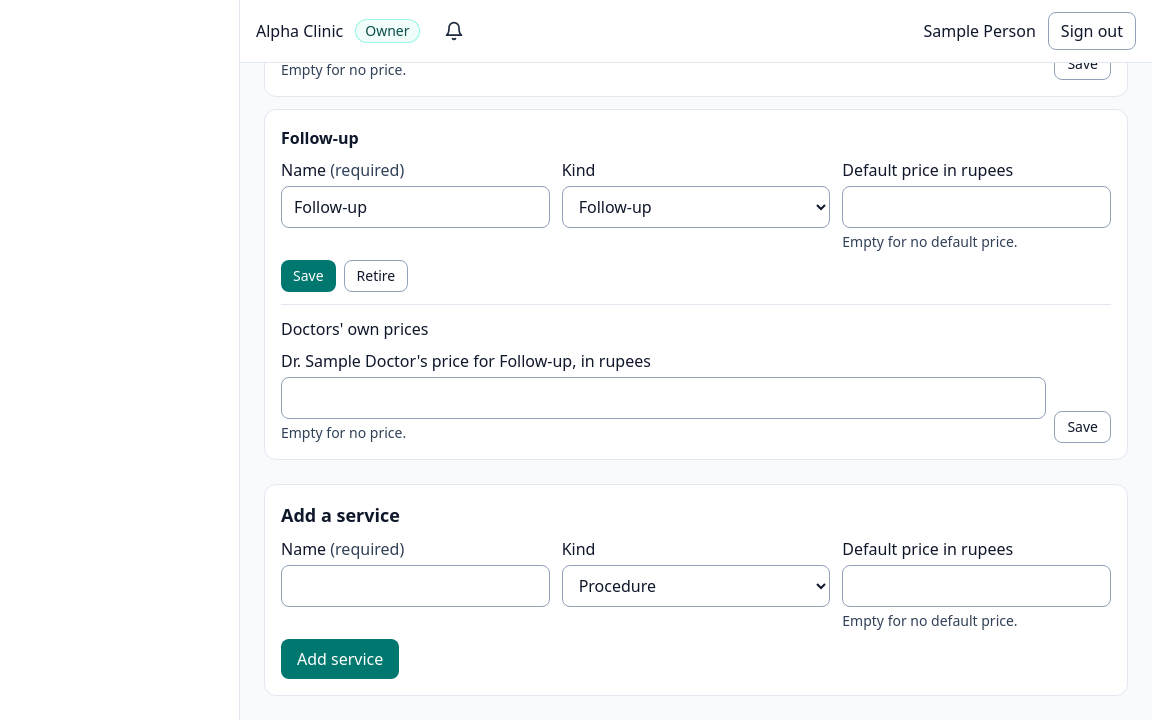
Test case: the fee schedule (M6d-P1, FR-BIL-01, billing R1-R4) › adds a service, and shows the API's refusal of a taken name
(page scrolled)
Step 1. Type "Dressing" into the field labelled "Name (required)" below "Add a service" → (415, 586), box [281,565,550,607]
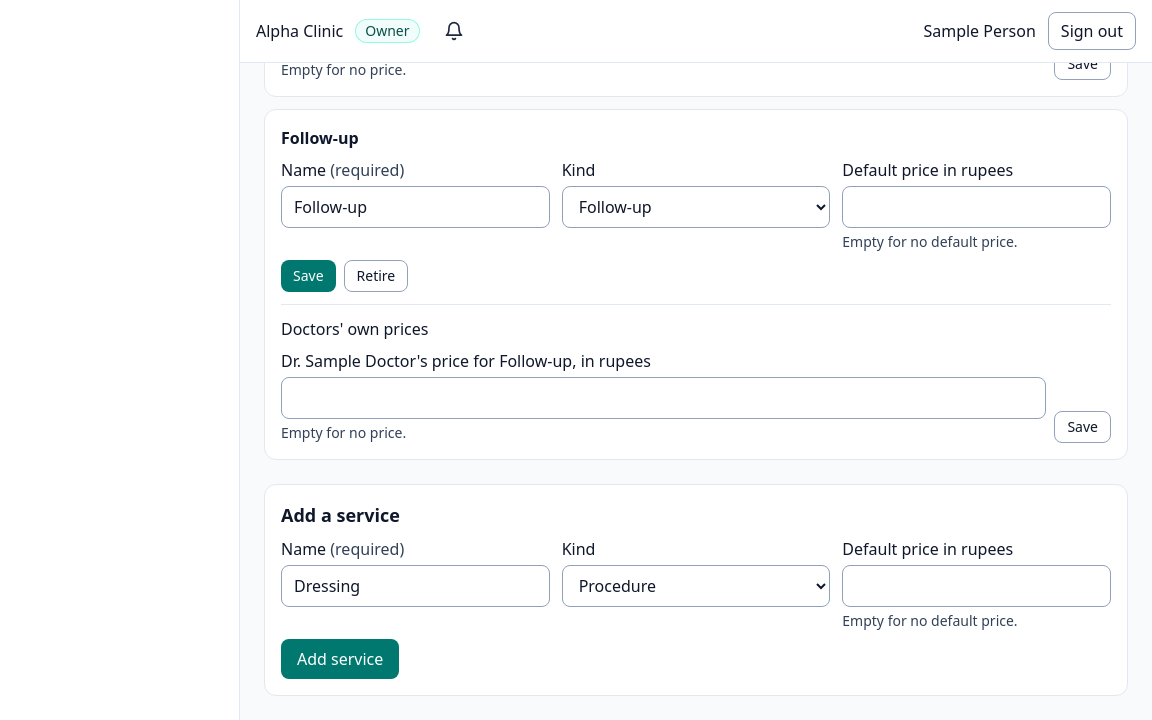
Step 2. Type "200" into the 2nd field labelled "Default price in rupees" → (977, 586), box [842,565,1111,607]
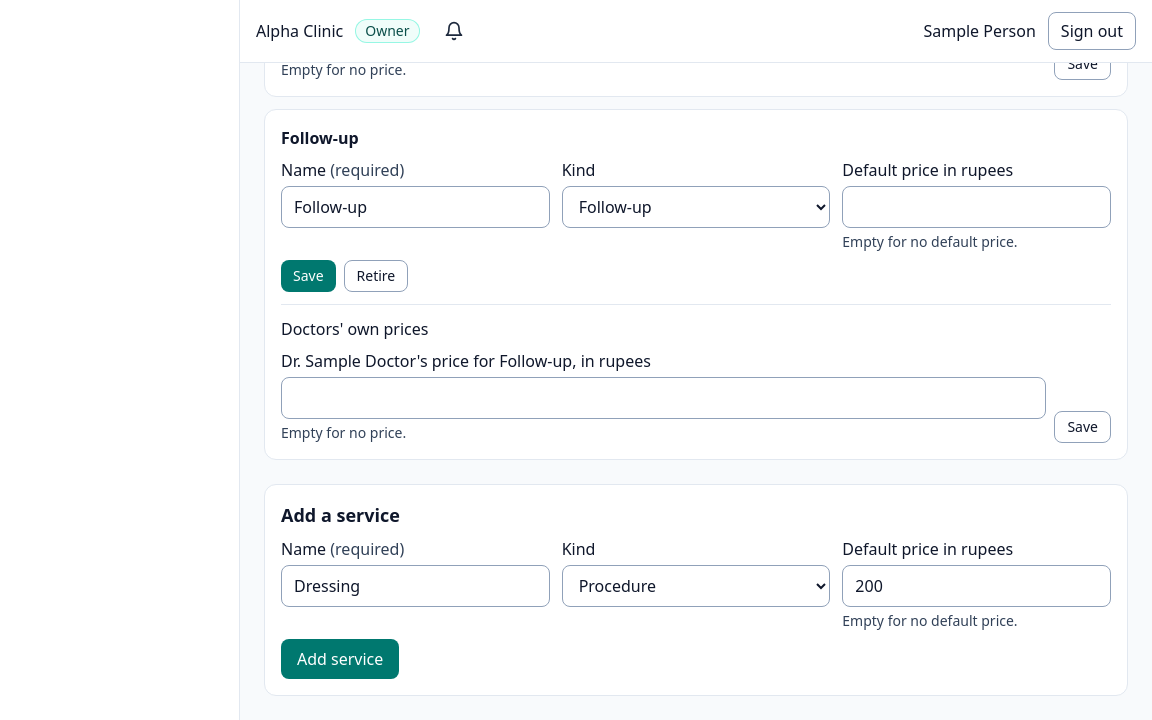
Step 3. Click the button "Add service" → (340, 659), box [281,639,399,679]
(page scrolled)
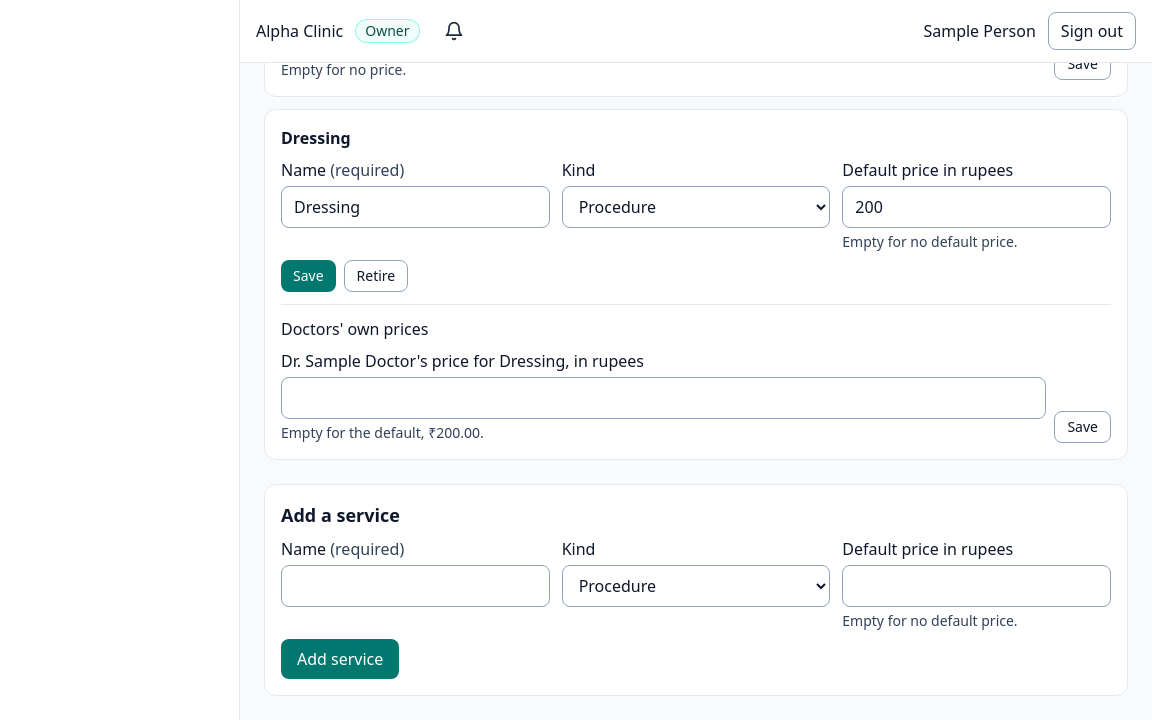
Expected: the field labelled "Name (required)" below "Add a service" is empty
Step 4. Type "dressing" into the field labelled "Name (required)" below "Add a service" → (415, 586), box [281,565,550,607]
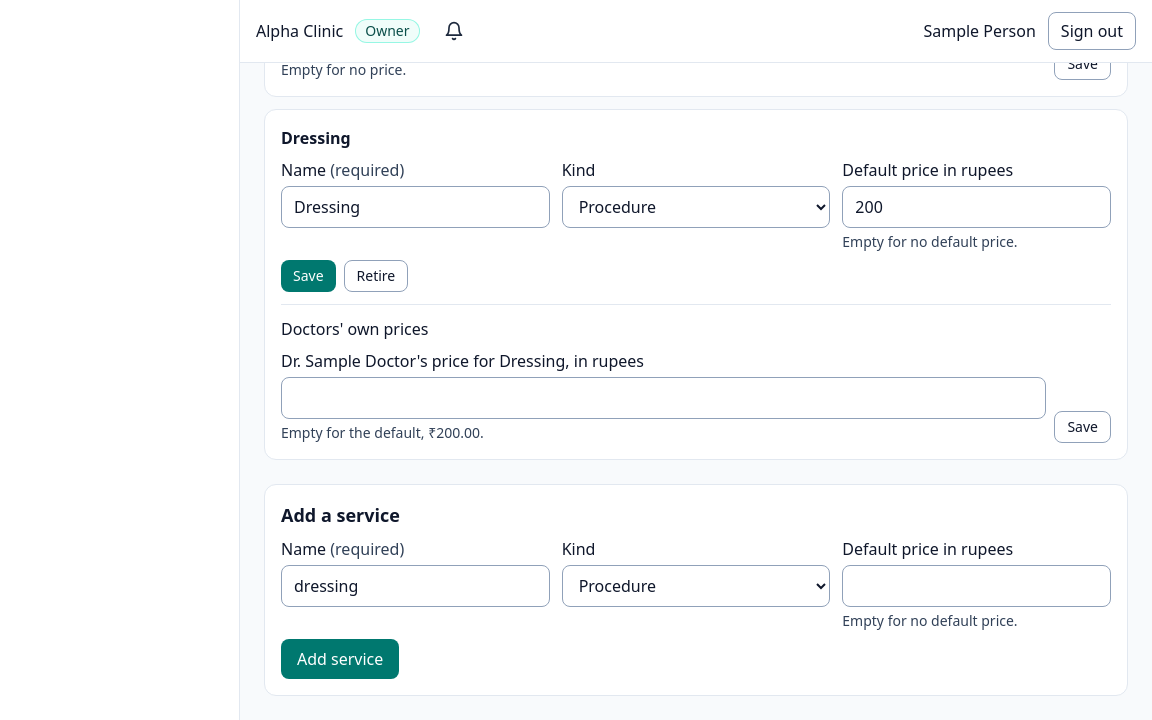
Step 5. Click the button "Add service" → (340, 659), box [281,639,399,679]
(page scrolled)
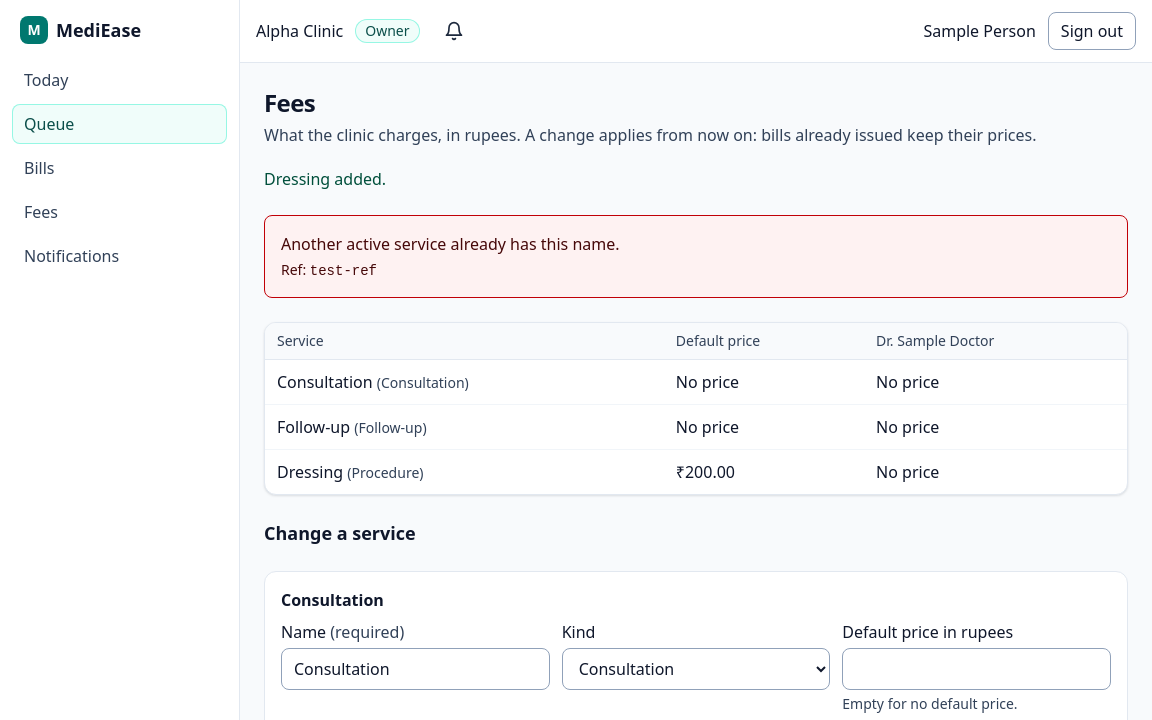
Expected: the text "Another active service already has this name." is shown, [281,233,620,255]
